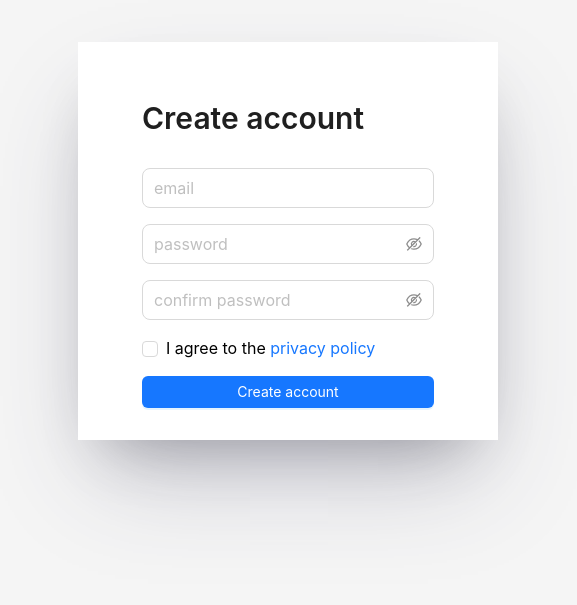
Test case: Validation errors unit tests › Show validation error in case of too short confirm password
Check: the text "The confirm password must be longer than 6 symbols" is not shown
In the password field with placeholder "password": coordinates (278, 244) left=154, top=232, right=402, bottom=256, type "ss"
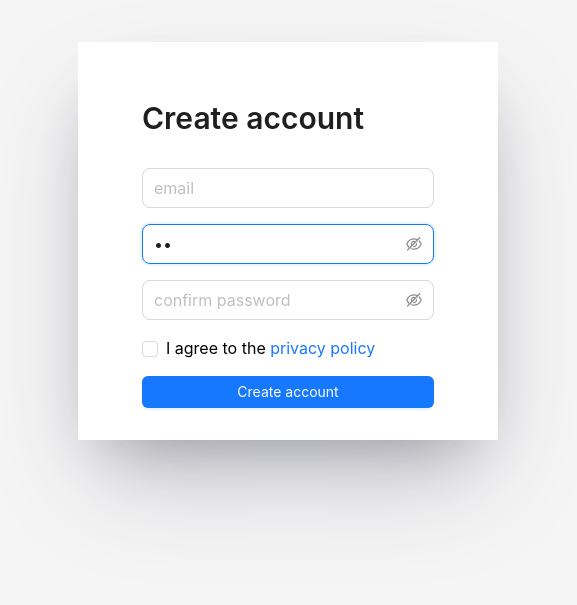
In the password field with placeholder "confirm password": coordinates (278, 300) left=154, top=288, right=402, bottom=312, type "ss"
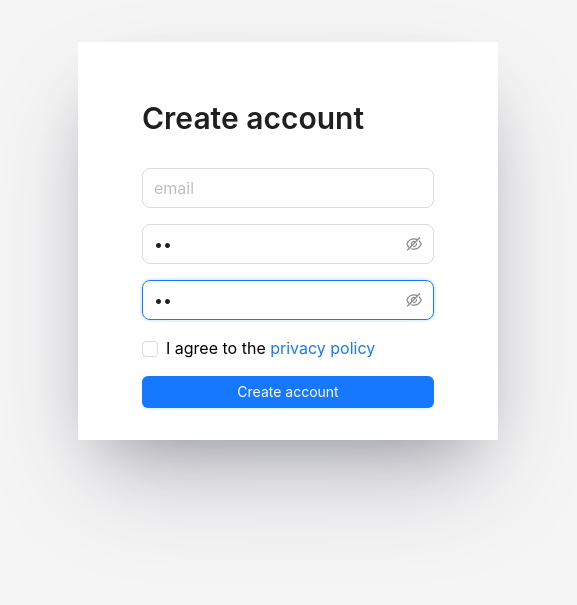
Click the button "Create account": coordinates (288, 392) left=142, top=376, right=434, bottom=408
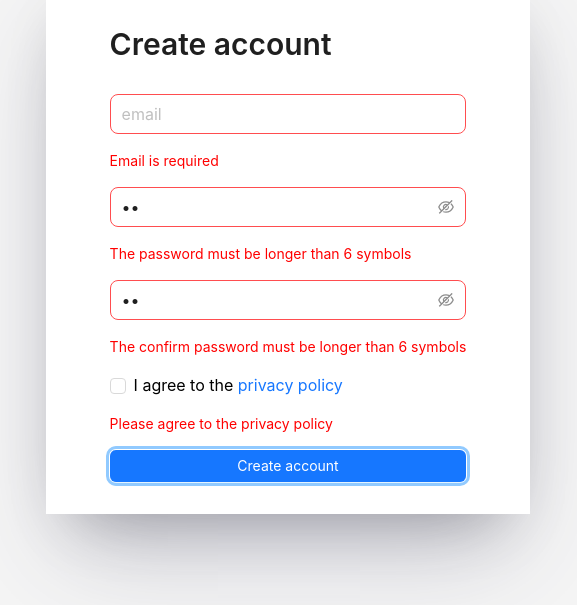
Check: the text "The confirm password must be longer than 6 symbols" is shown, box left=110, top=336, right=466, bottom=357
